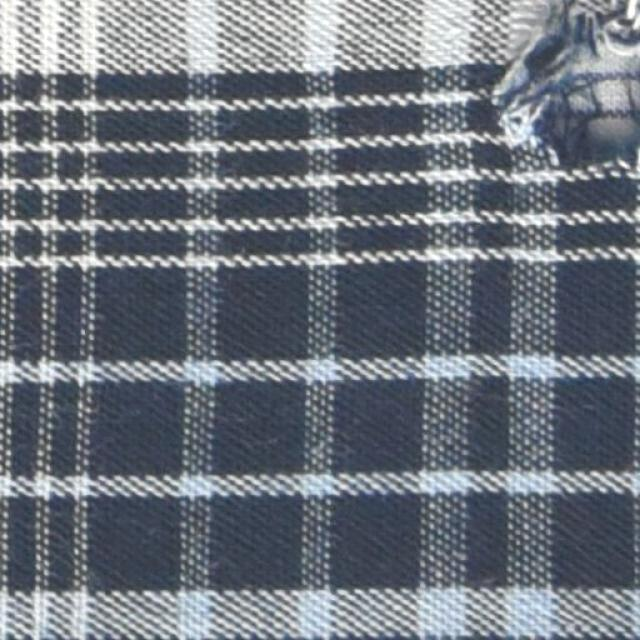Hole: (586, 47, 637, 149)
Snag: (474, 1, 639, 179)
